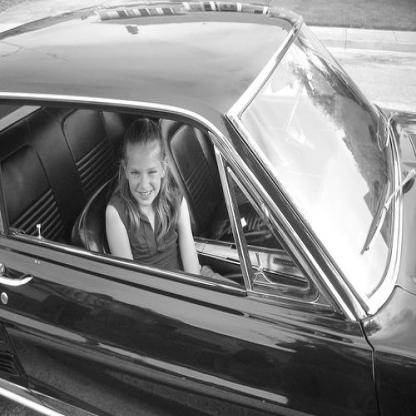car: (1, 1, 416, 416)
person: (106, 115, 201, 277)
